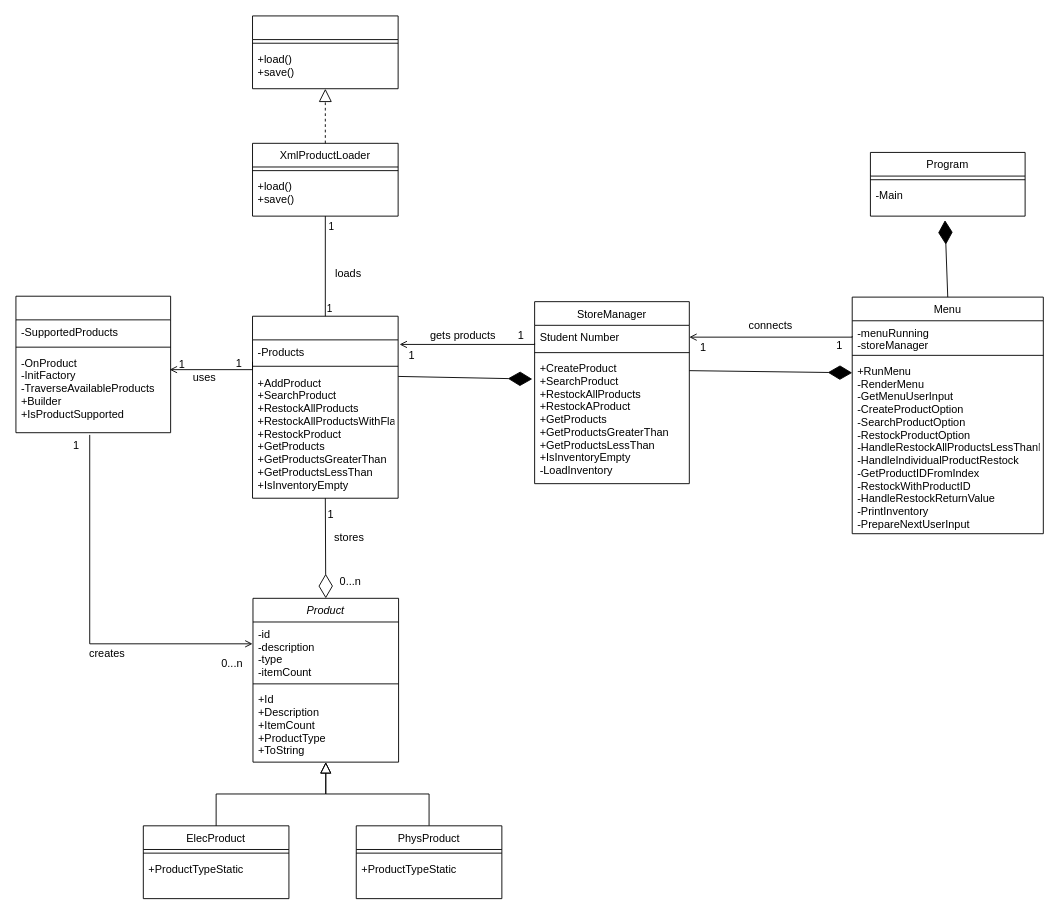
The diagram is 1061 pixels wide and 915 high, and some of its shapes have lost their labels. The shapes that lost their labels are listed below. From the top down, each one's box as (x1, y1, x2, y2) in pixels, then its label:
(252, 15, 398, 89): IProductLoader
(15, 295, 171, 433): ProductFactory
(252, 315, 398, 498): InventoryManager
